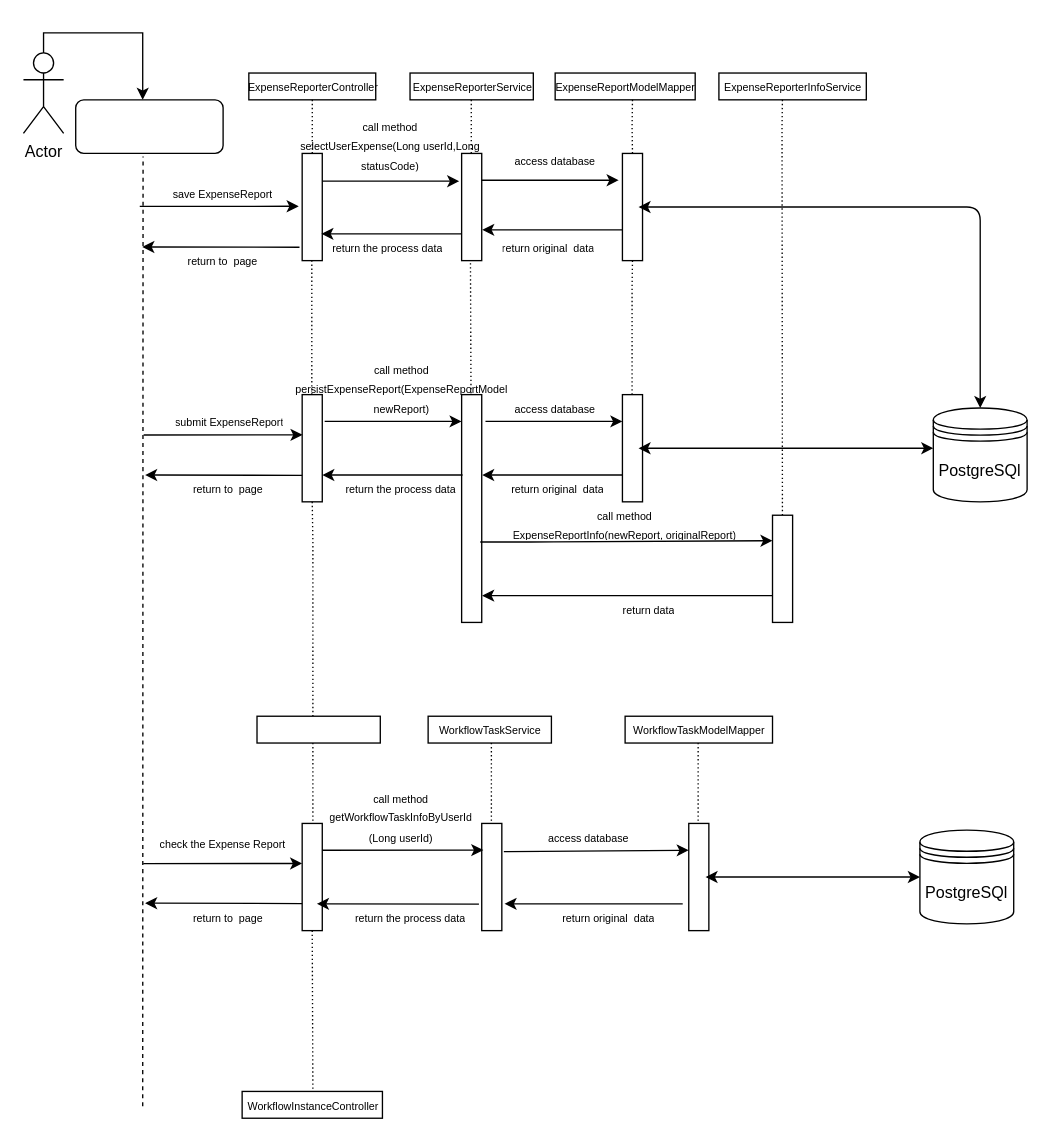
Some shapes in this 1051 by 1142 pixel diagram are drawn without their labels. The shapes that lost their labels are listed below. From the top down, each one's box as (x1, y1, x2, y2) in pixels, then its label:
(74, 98, 223, 153): Search Ui
(256, 715, 380, 743): WorkflowTaskController
